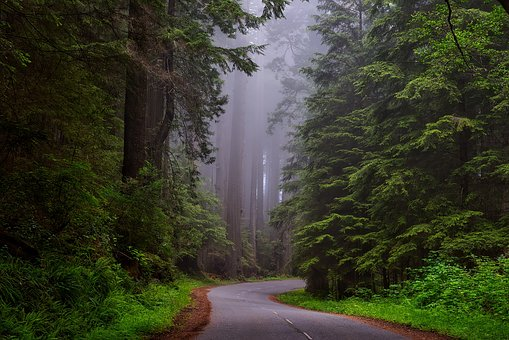forest: (8, 10, 496, 340)
